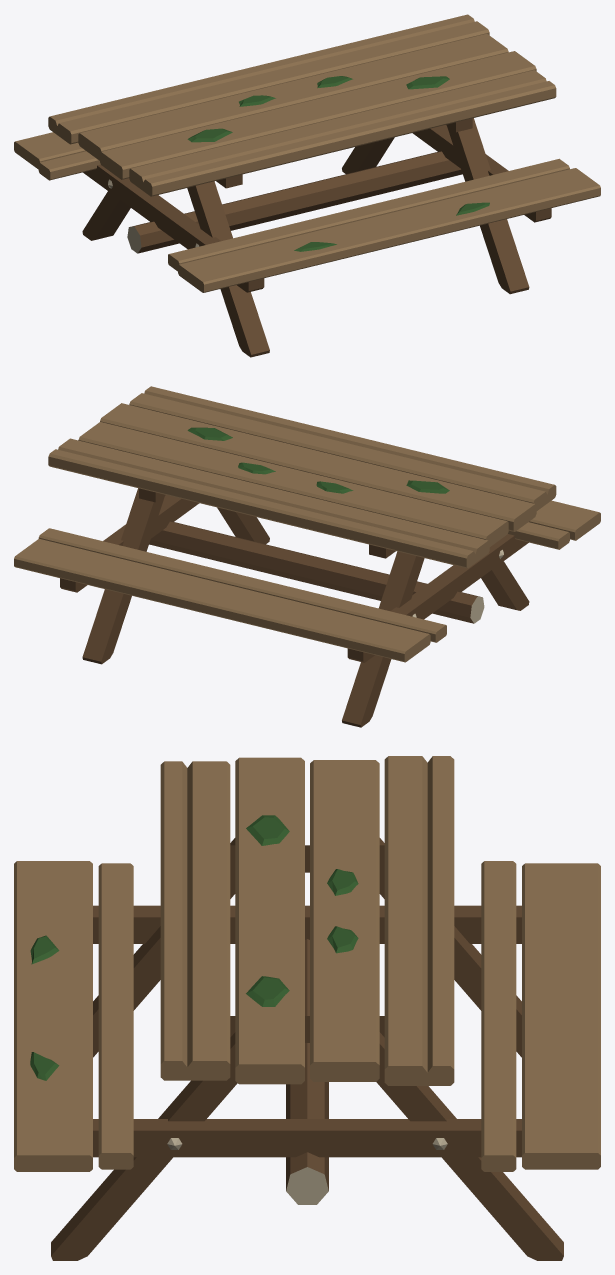
The model's file is campsite-picnic-table-361d51.glb.
3 views of the same model, one above another, from view 1: azimuth 30°, elevation 25°; view 2: azimuth 150°, elevation 25°; view 3: azimuth 270°, elevation 25° (orthographic). The views are drawn at different scales.
Parts seen in each view (by area): view 1: campsite-picnic-table-mesh; view 2: campsite-picnic-table-mesh; view 3: campsite-picnic-table-mesh.
Boxes of the visible parts, left/top/right/bottom form: campsite-picnic-table-mesh: left=14, top=14, right=600, bottom=357; campsite-picnic-table-mesh: left=14, top=386, right=600, bottom=727; campsite-picnic-table-mesh: left=14, top=756, right=600, bottom=1260.
Bounding box in the file's own units: 2 × 0.7501 × 1.6.
